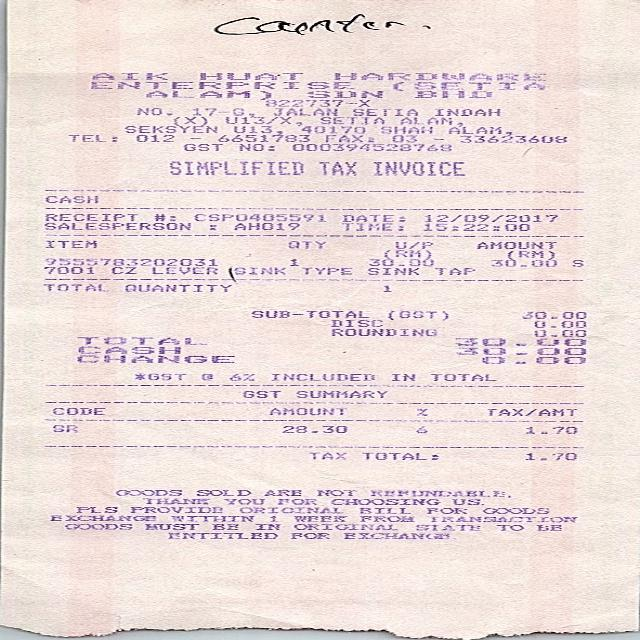text: (168, 160, 302, 174), (90, 81, 354, 88), (332, 72, 544, 80), (43, 257, 217, 265), (392, 81, 545, 90), (290, 143, 450, 151), (372, 160, 462, 174), (368, 489, 509, 497), (76, 355, 234, 362), (421, 214, 556, 222), (425, 515, 576, 522), (192, 213, 322, 221), (74, 336, 204, 344), (44, 222, 188, 229), (145, 90, 270, 98), (250, 310, 368, 318), (454, 338, 585, 345), (455, 347, 585, 354), (458, 134, 565, 142), (331, 328, 436, 336), (77, 346, 180, 354), (216, 134, 310, 142), (263, 99, 369, 106), (422, 223, 528, 230), (124, 284, 230, 291), (292, 523, 398, 530), (479, 356, 584, 363), (198, 72, 302, 79), (45, 213, 136, 221), (270, 373, 374, 380), (486, 408, 575, 416), (341, 532, 454, 538), (330, 498, 440, 504), (167, 532, 277, 538), (122, 125, 215, 132), (46, 514, 154, 520), (294, 390, 386, 397), (268, 407, 346, 415), (414, 90, 491, 98), (307, 90, 381, 98), (387, 310, 446, 320), (270, 106, 334, 115), (476, 241, 556, 248), (360, 452, 438, 459), (428, 373, 495, 381), (91, 72, 167, 79), (318, 160, 356, 174), (432, 108, 498, 116), (318, 116, 384, 124), (233, 222, 299, 230), (367, 258, 433, 266), (490, 258, 556, 266), (224, 116, 289, 124), (238, 507, 342, 512), (169, 515, 252, 521), (340, 222, 402, 230), (448, 125, 502, 134), (190, 106, 243, 115), (142, 497, 209, 504), (150, 267, 216, 274), (41, 284, 107, 291), (518, 311, 584, 318), (352, 108, 417, 115), (339, 214, 404, 221), (130, 507, 221, 512), (282, 425, 346, 432), (382, 249, 431, 258), (330, 319, 382, 327), (523, 452, 575, 460), (506, 250, 552, 259), (482, 508, 549, 514), (63, 523, 130, 529), (414, 524, 479, 530), (301, 126, 365, 132), (114, 489, 178, 495), (44, 195, 98, 202), (142, 523, 196, 530), (399, 117, 452, 124), (380, 126, 432, 133), (44, 240, 96, 247), (232, 267, 284, 274), (532, 329, 584, 336), (132, 373, 184, 380), (51, 407, 103, 414), (366, 267, 417, 274), (534, 320, 585, 327), (524, 426, 575, 433), (322, 135, 372, 142), (300, 267, 350, 274), (67, 134, 116, 141), (136, 106, 172, 115), (232, 125, 272, 133), (182, 143, 222, 151), (196, 489, 249, 495), (358, 507, 410, 513), (294, 515, 346, 521), (360, 515, 412, 521), (171, 116, 205, 125), (287, 240, 325, 248), (136, 134, 173, 142), (43, 267, 92, 273), (237, 143, 273, 151), (393, 241, 432, 248), (240, 390, 278, 397), (433, 268, 474, 274), (223, 498, 264, 504), (275, 498, 316, 504), (316, 489, 356, 495), (426, 507, 466, 513), (306, 452, 344, 458), (290, 532, 328, 538), (262, 489, 299, 495), (74, 507, 116, 512), (51, 424, 77, 432), (110, 266, 134, 274), (253, 523, 280, 530), (211, 523, 238, 530), (450, 498, 481, 504), (391, 373, 414, 381), (228, 373, 254, 380), (391, 135, 415, 142), (495, 524, 522, 530), (153, 213, 173, 221), (536, 525, 560, 530), (570, 259, 582, 266), (200, 373, 212, 380), (412, 426, 426, 432), (415, 408, 424, 416), (289, 258, 297, 265), (382, 285, 390, 291), (269, 515, 275, 521)
